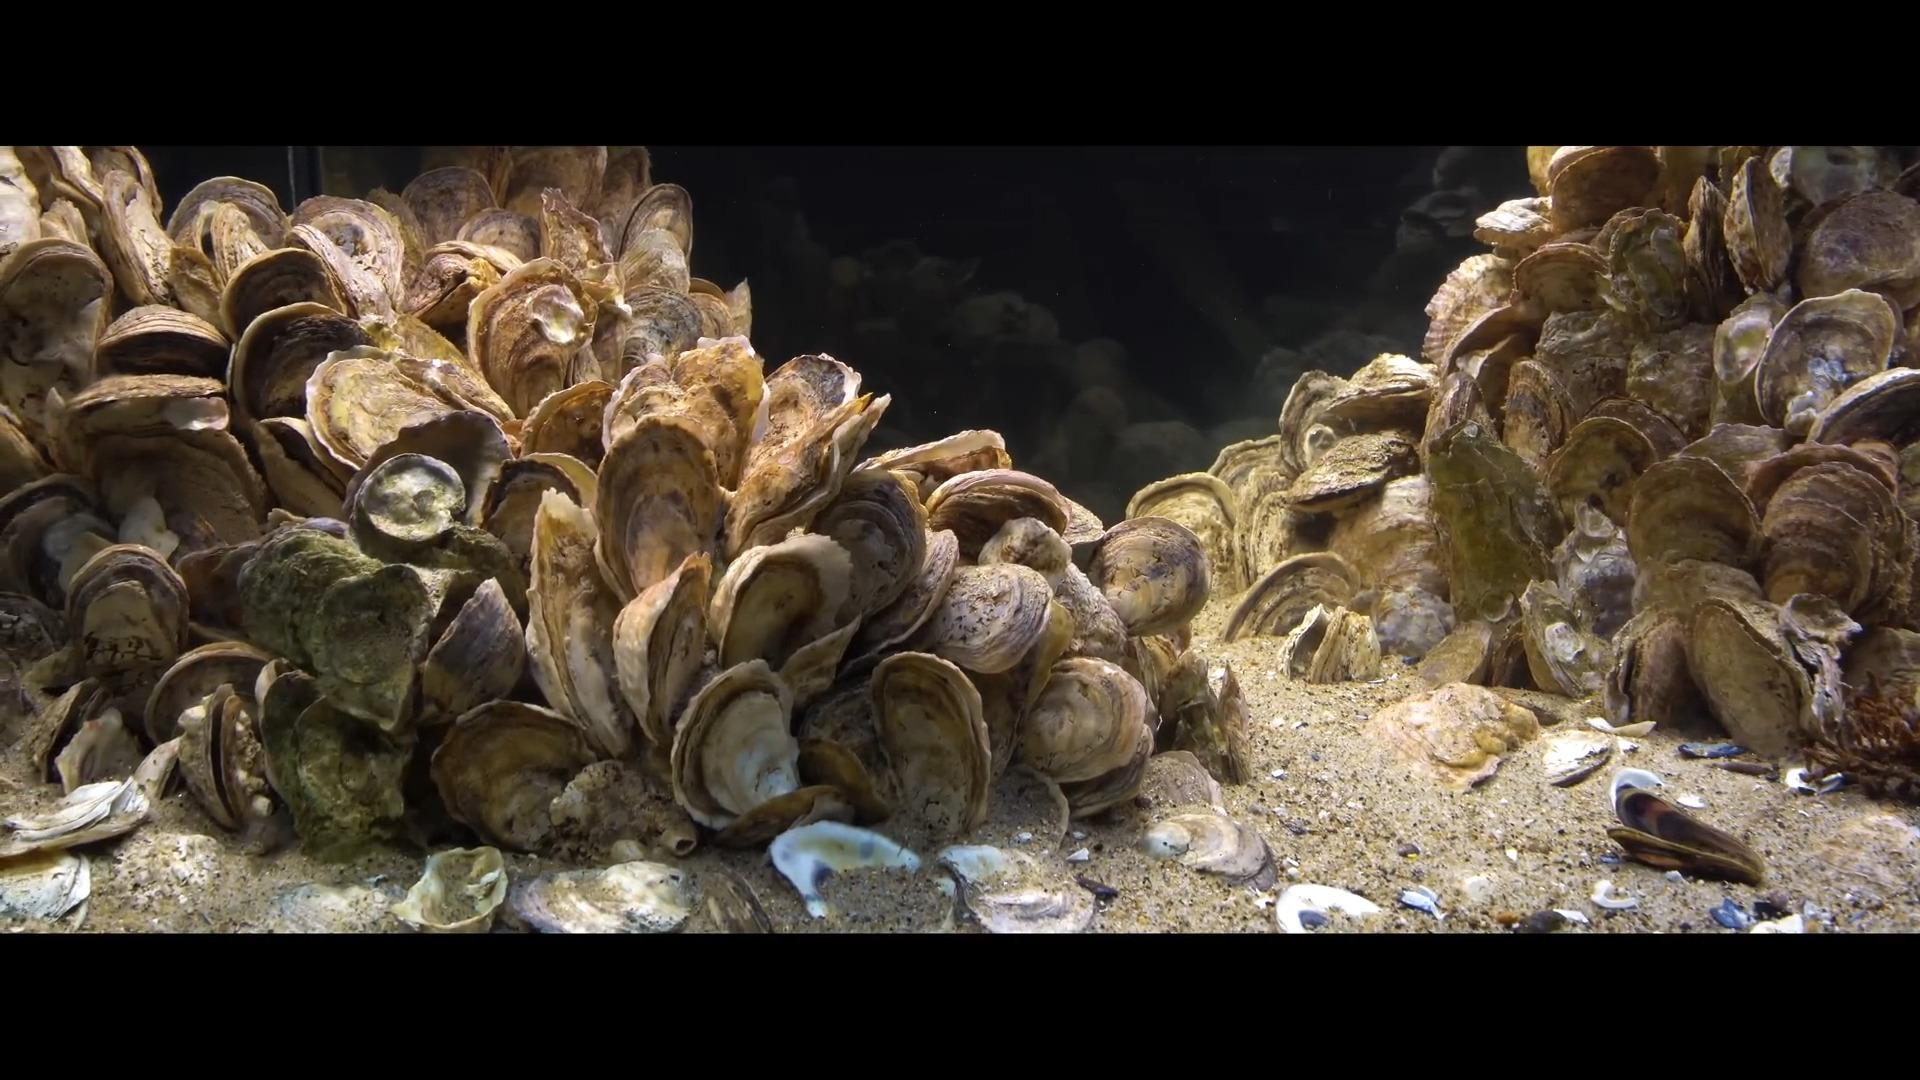Oyster: (711, 359, 882, 563), (303, 348, 509, 489), (591, 404, 727, 609), (76, 417, 269, 559), (427, 699, 597, 857), (525, 492, 625, 756), (865, 649, 989, 844), (1753, 454, 1900, 616), (1684, 592, 1821, 762), (0, 237, 116, 435), (705, 530, 853, 684), (468, 260, 604, 425), (670, 661, 800, 832), (1018, 657, 1154, 820), (794, 471, 918, 649), (1749, 289, 1896, 434), (228, 302, 372, 447), (612, 553, 711, 749), (61, 542, 187, 692), (1623, 447, 1762, 580), (414, 575, 530, 728), (909, 554, 1047, 676), (1791, 186, 1917, 314), (170, 682, 273, 837), (1084, 513, 1213, 636), (62, 372, 240, 459), (284, 194, 410, 315), (1544, 411, 1667, 535), (919, 465, 1072, 562), (665, 331, 767, 473), (86, 158, 179, 311), (0, 476, 107, 609), (475, 455, 585, 583), (219, 243, 349, 351), (88, 302, 235, 389), (166, 173, 286, 274), (1593, 206, 1692, 328), (712, 782, 866, 856), (413, 237, 525, 335), (864, 426, 1009, 501), (388, 845, 510, 934), (1544, 144, 1665, 231), (1722, 156, 1792, 298), (493, 145, 604, 232), (611, 287, 708, 384), (535, 183, 616, 294), (47, 702, 142, 795), (1509, 237, 1611, 322), (400, 162, 497, 251), (615, 179, 696, 276)
